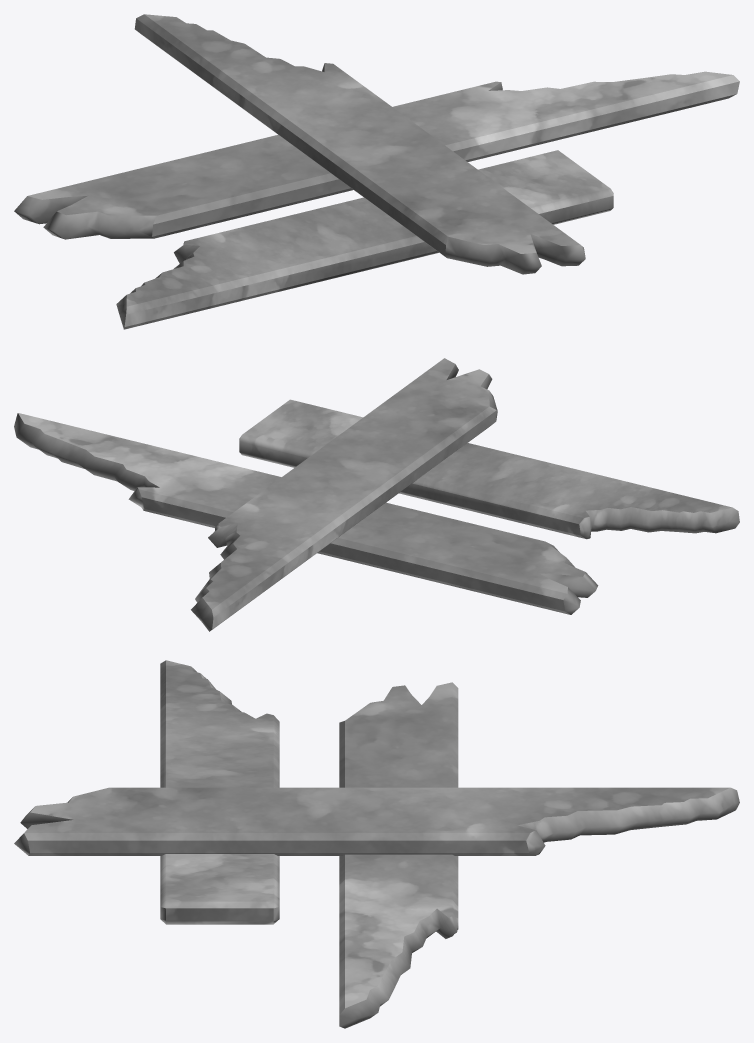
Rendered from SM_Crate_Broken_01a1.fbx.
3 views of the same model, one above another, from view 1: azimuth 30°, elevation 25°; view 2: azimuth 150°, elevation 25°; view 3: azimuth 270°, elevation 25° (orthographic). The views are drawn at different scales.
Parts seen in each view (by area): view 1: SM_Crate_Broken_01a1_LOD0; view 2: SM_Crate_Broken_01a1_LOD0; view 3: SM_Crate_Broken_01a1_LOD0.
Boxes of the visible parts, x1,y1,x2,y2 form: SM_Crate_Broken_01a1_LOD0: (14,14,739,329); SM_Crate_Broken_01a1_LOD0: (14,358,739,631); SM_Crate_Broken_01a1_LOD0: (14,660,739,1028).
Bounding box in the file's own units: 115 × 100 × 6.67.
